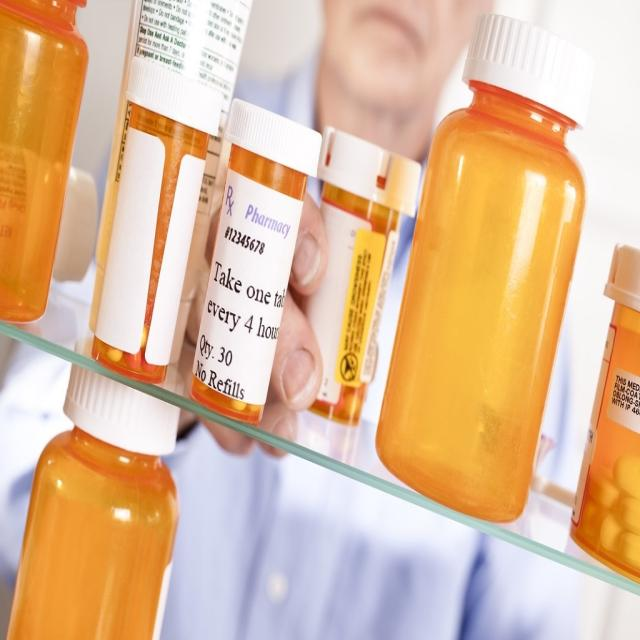Medical Waste: (15, 5, 622, 634)
